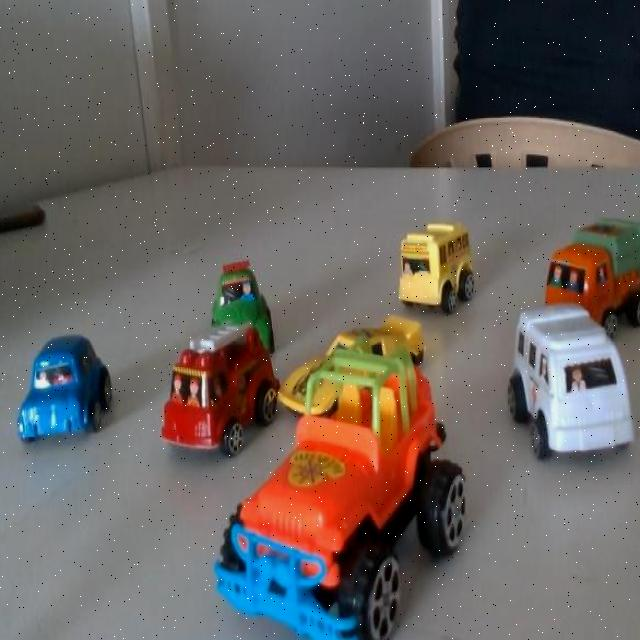car: (201, 450, 368, 640), (268, 307, 422, 456), (4, 324, 112, 466), (153, 326, 248, 468), (506, 324, 618, 444), (532, 212, 637, 338), (189, 256, 272, 369), (387, 217, 452, 312)
